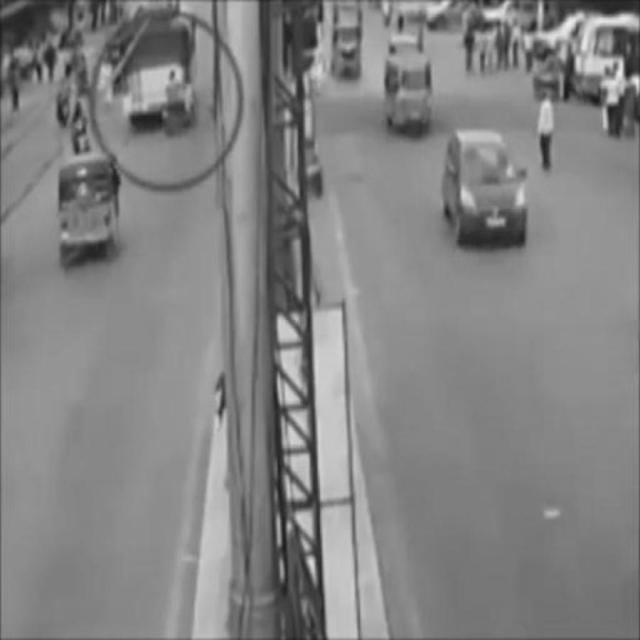person: (537, 90, 555, 173)
vehicle: (439, 133, 527, 244), (120, 16, 197, 126), (56, 153, 124, 259), (384, 50, 435, 132)
